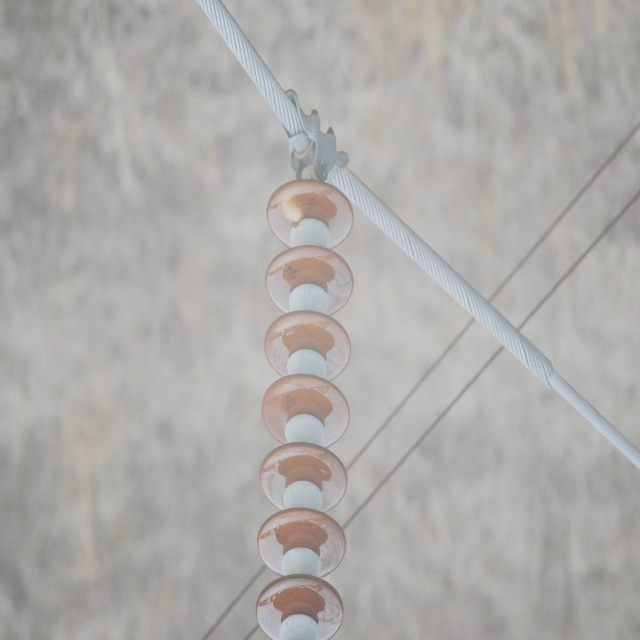insulator: (256, 180, 357, 638)
